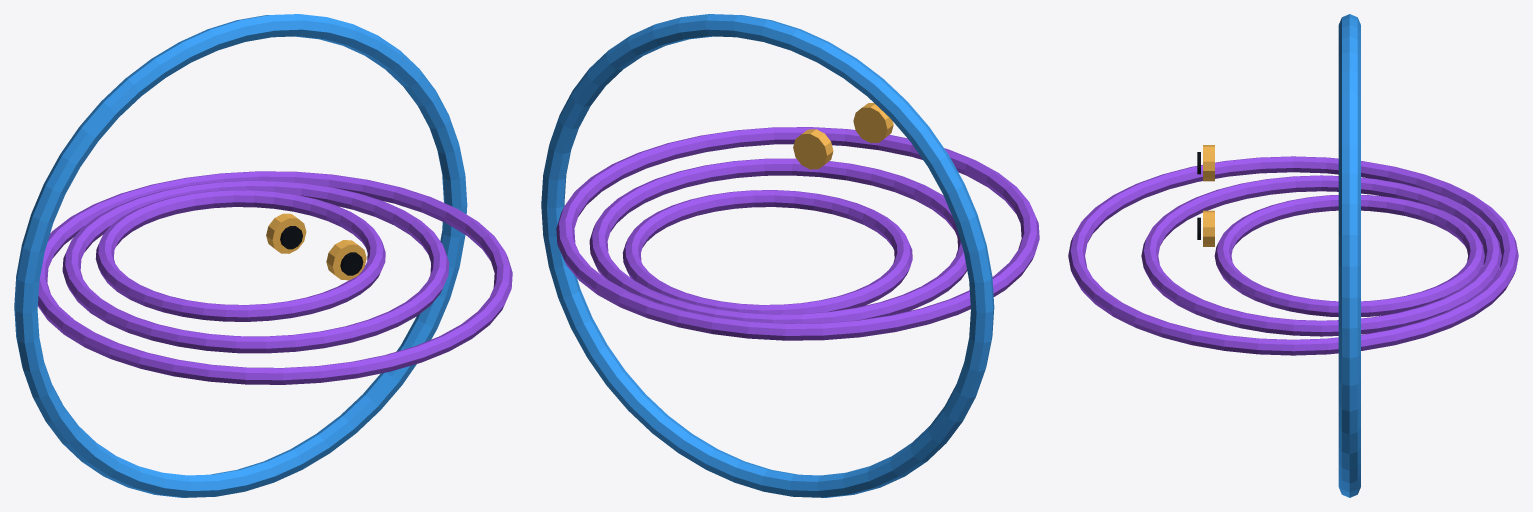
Rendered from 69_L91_NavigationUncertaintyHologram.fbx.
3 views of the same model, side by side, from view 1: azimuth 30°, elevation 25°; view 2: azimuth 150°, elevation 25°; view 3: azimuth 270°, elevation 25° (orthographic). The views are drawn at different scales.
Parts seen in each view (by area): view 1: L91_NavigationUncertaintyHologram_Part_0001, L91_NavigationUncertaintyHologram_Part_0000, L91_NavigationUncertaintyHologram_Part_0002, L91_NavigationUncertaintyHologram_Part_0004; view 2: L91_NavigationUncertaintyHologram_Part_0001, L91_NavigationUncertaintyHologram_Part_0000, L91_NavigationUncertaintyHologram_Part_0004, L91_NavigationUncertaintyHologram_Part_0002; view 3: L91_NavigationUncertaintyHologram_Part_0001, L91_NavigationUncertaintyHologram_Part_0000.
Boxes of the visible parts, bbox=[...] form: L91_NavigationUncertaintyHologram_Part_0001: bbox=[38, 171, 512, 384]; L91_NavigationUncertaintyHologram_Part_0000: bbox=[14, 14, 467, 497]; L91_NavigationUncertaintyHologram_Part_0002: bbox=[266, 213, 306, 253]; L91_NavigationUncertaintyHologram_Part_0004: bbox=[326, 240, 366, 280]; L91_NavigationUncertaintyHologram_Part_0001: bbox=[556, 127, 1039, 340]; L91_NavigationUncertaintyHologram_Part_0000: bbox=[541, 14, 994, 497]; L91_NavigationUncertaintyHologram_Part_0004: bbox=[793, 129, 833, 169]; L91_NavigationUncertaintyHologram_Part_0002: bbox=[853, 103, 893, 142]; L91_NavigationUncertaintyHologram_Part_0001: bbox=[1068, 156, 1518, 355]; L91_NavigationUncertaintyHologram_Part_0000: bbox=[1338, 14, 1360, 497].
Size of the model in its own units: 172 by 172 by 160.
